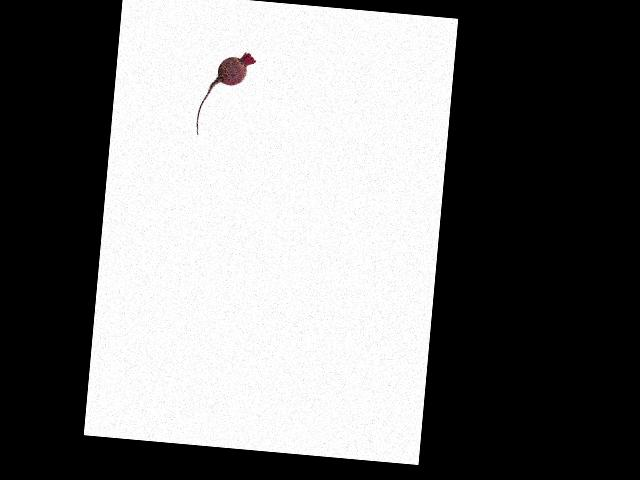beet: (195, 49, 256, 140)
